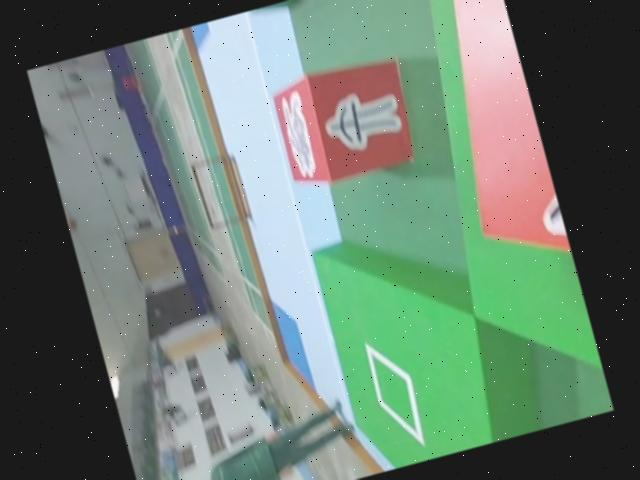R2 Fake: (263, 51, 425, 196)
